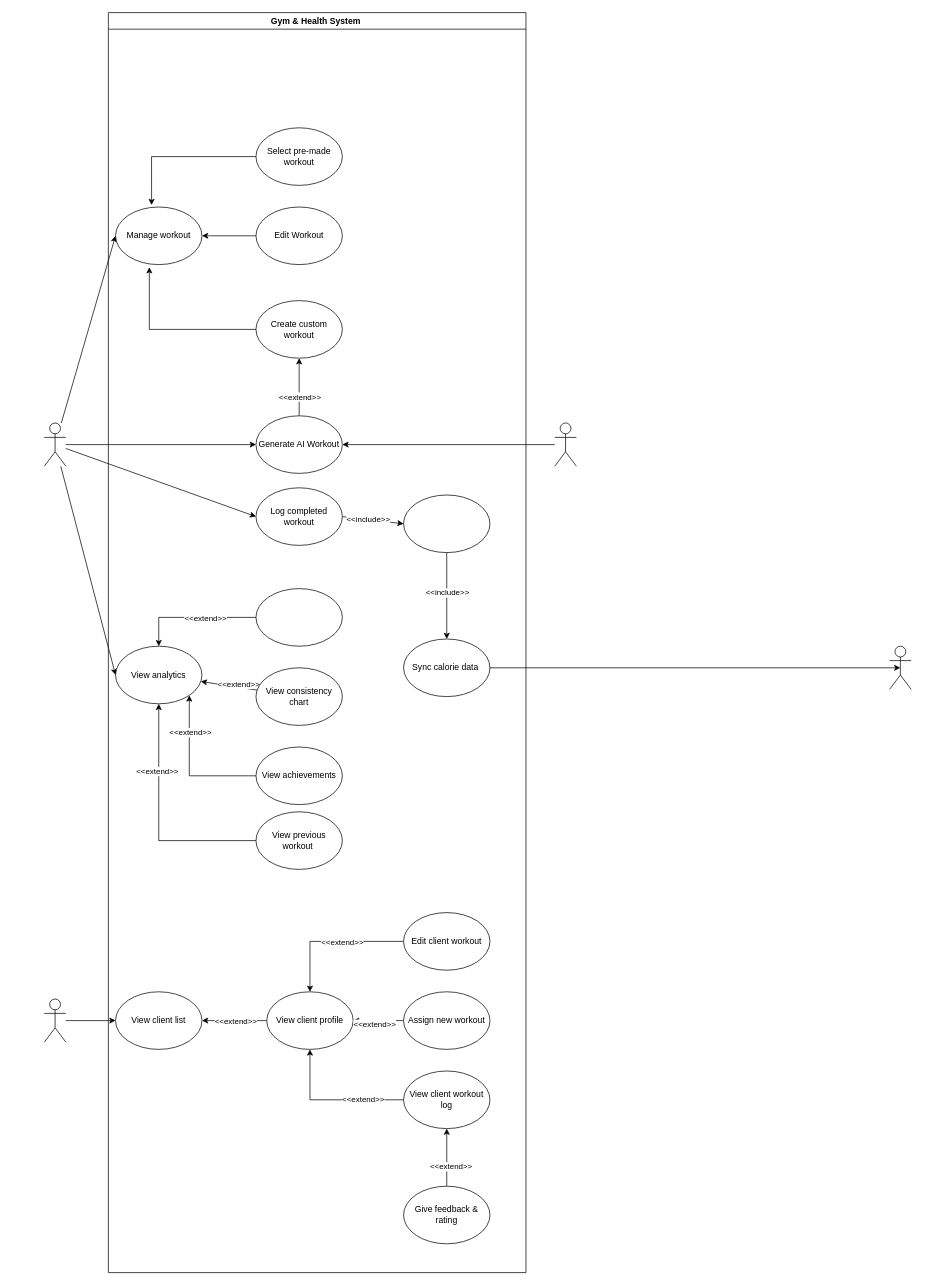
The diagram is 944 pixels wide and 1285 high, and some of its shapes have lost their labels. Here are the shapes that lost their labels. From the top down, the centre of each, then its label:
At point (55, 444): "User".
At point (565, 444): "AI engine".
At point (446, 523): "Calculate calories".
At point (298, 617): "View statistics".
At point (900, 667): "Nutrition module".
At point (55, 1020): "Trainer and nutritionist".
